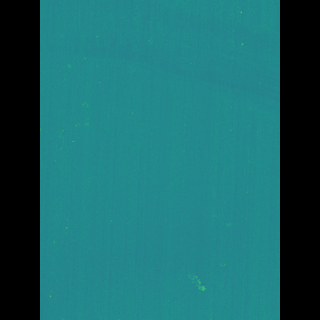Loch: (91, 0, 251, 115)
